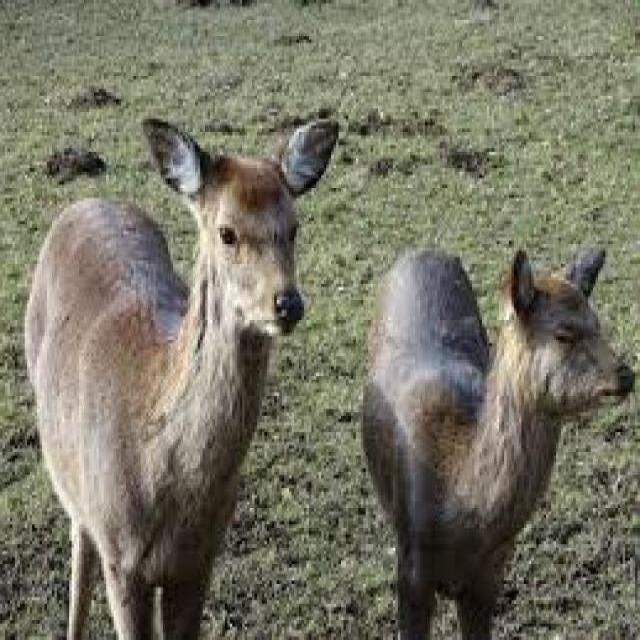deer: (2, 97, 347, 640), (362, 216, 637, 640)
